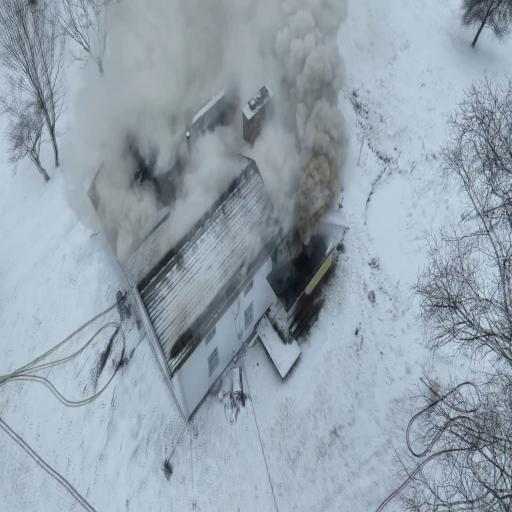smoke: (289, 41, 339, 243)
